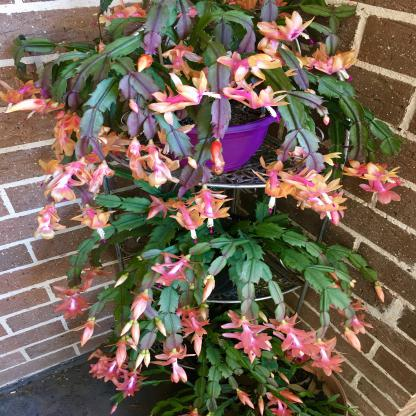Aglonema: (27, 142, 348, 360)
